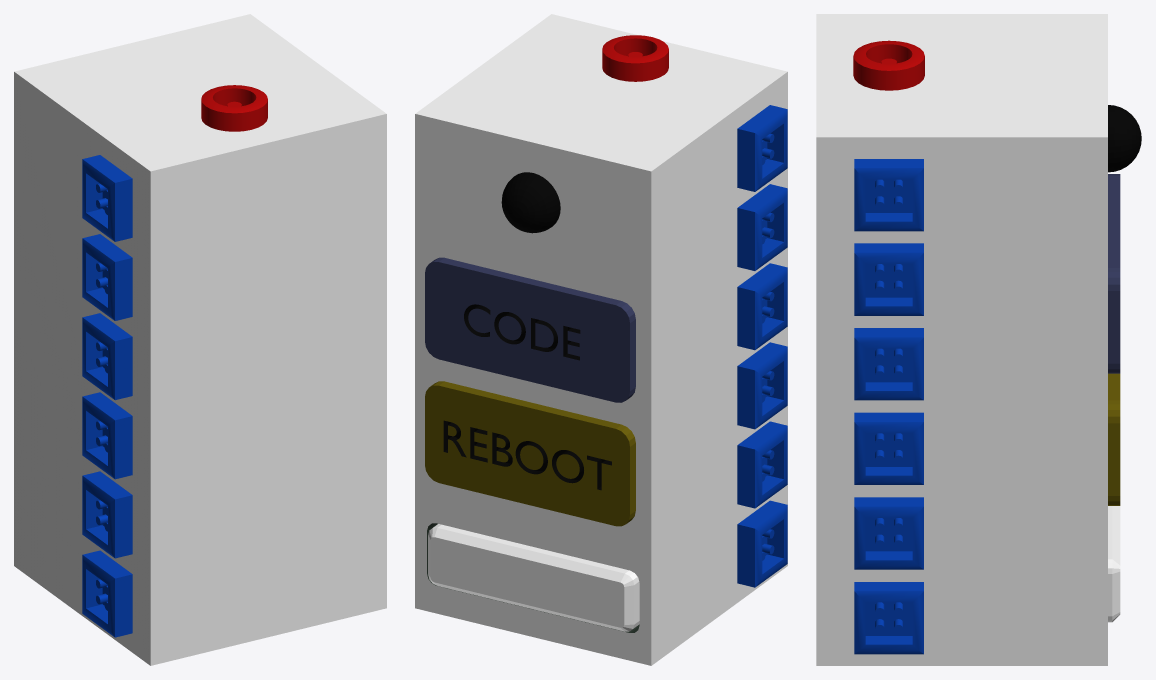
Rendered from MiniComputer.gltf.
3 views of the same model, side by side, from view 1: azimuth 30°, elevation 25°; view 2: azimuth 150°, elevation 25°; view 3: azimuth 270°, elevation 25° (orthographic). The views are drawn at different scales.
Visible parts, largest first — view 1: console; view 2: console, hdd; view 3: console, hdd.
Boxes of the visible parts, x1=… form: console: x1=14, y1=14, x2=386, y2=665; console: x1=415, y1=14, x2=787, y2=665; hdd: x1=428, y1=524, x2=639, y2=631; console: x1=816, y1=14, x2=1141, y2=665; hdd: x1=1108, y1=506, x2=1120, y2=622.
Size of the model in its own units: 0.2913 by 0.5204 by 0.279.
